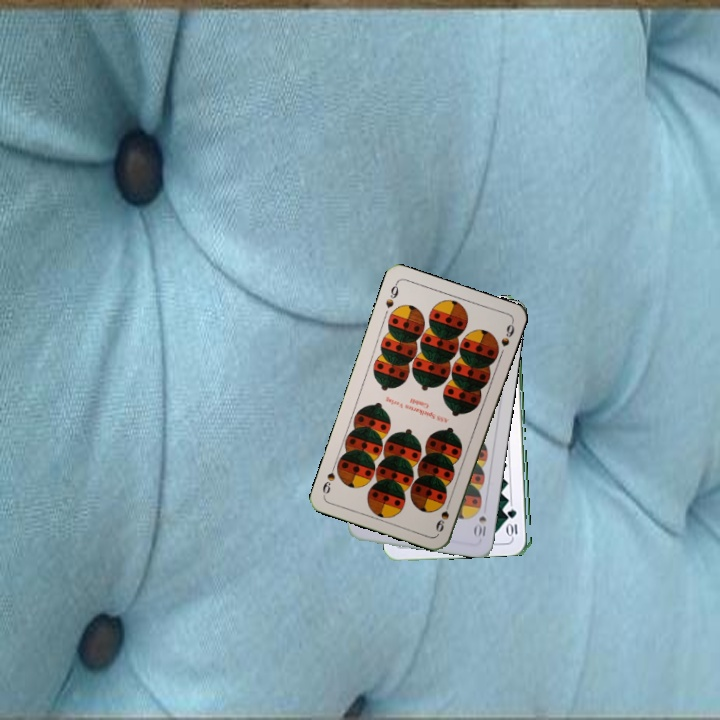G10: (505, 505, 520, 539)
S10: (470, 512, 489, 540)
S9: (432, 496, 453, 534), (381, 279, 401, 311)
